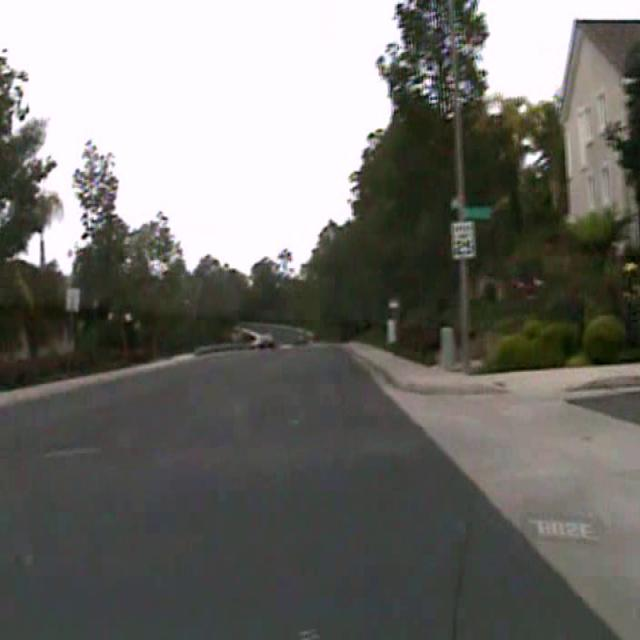speedLimit25: (450, 217, 475, 259)
